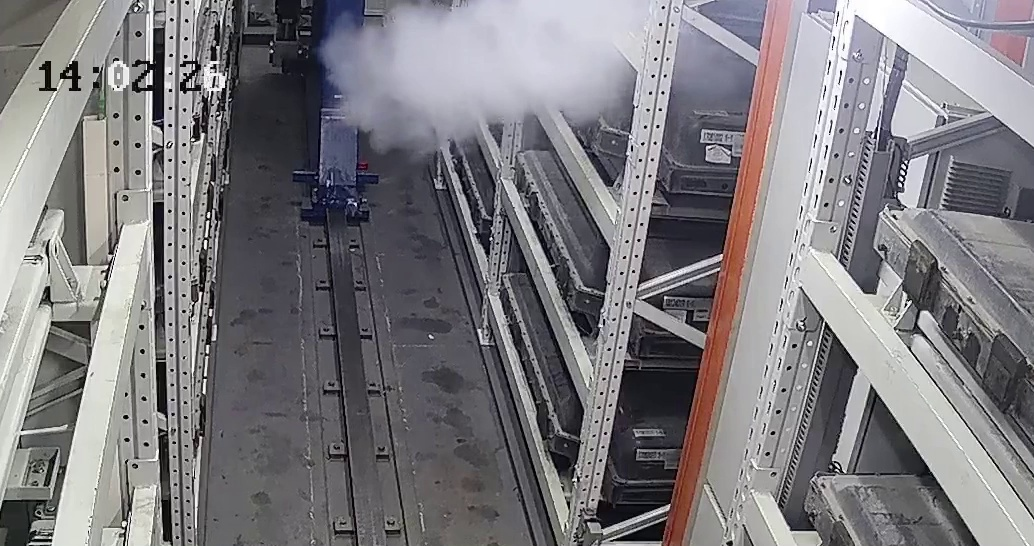smoke: (345, 5, 647, 131)
